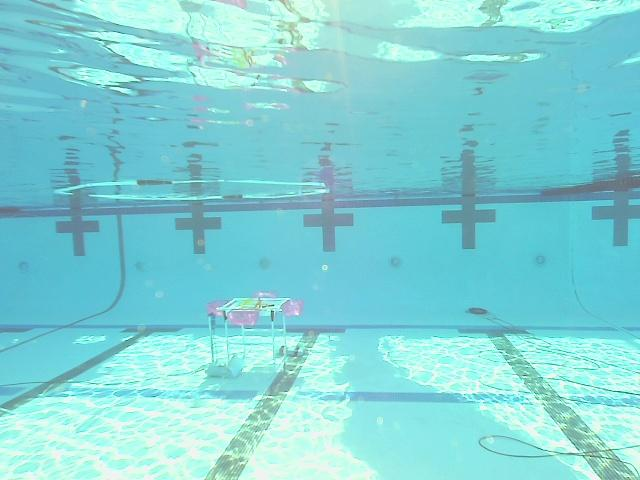table: (206, 290, 305, 378)
